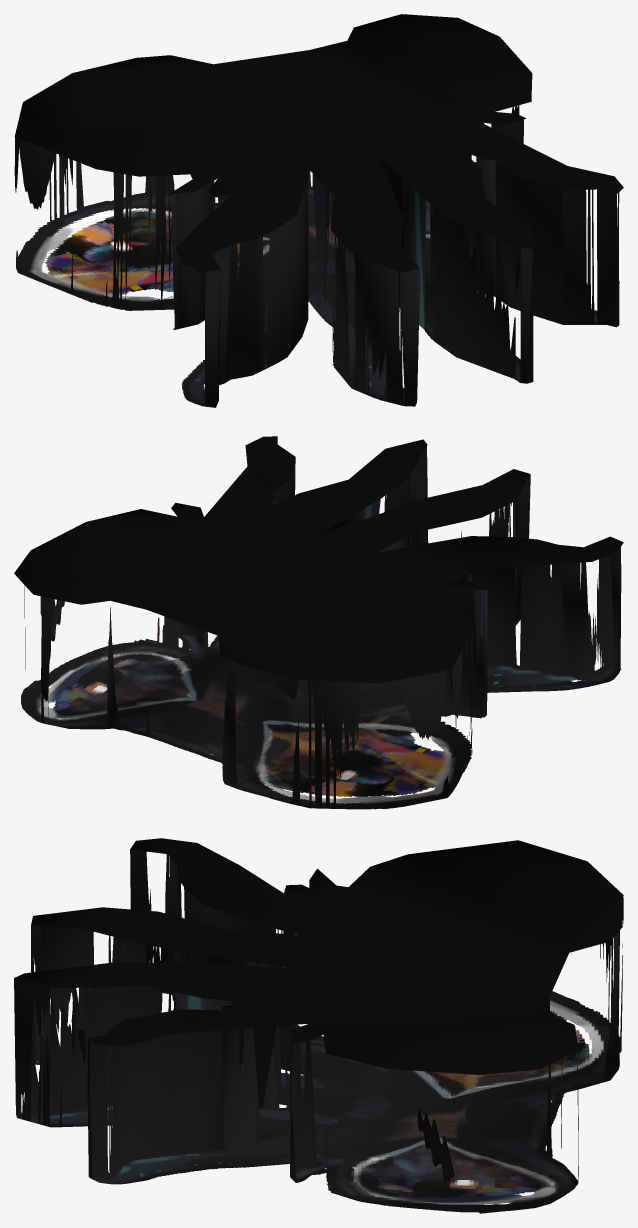
The model's file is M_Poulpe.fbx.
3 renders of one model, top to bottom at view 1: azimuth 30°, elevation 25°; view 2: azimuth 150°, elevation 25°; view 3: azimuth 270°, elevation 25°, orthographic. The views are drawn at different scales.
Parts seen in each view (by area): view 1: Plane.004; view 2: Plane.004; view 3: Plane.004.
Boxes of the visible parts, bbox=[...] form: Plane.004: bbox=[14, 14, 623, 407]; Plane.004: bbox=[14, 436, 623, 809]; Plane.004: bbox=[14, 838, 623, 1213].
Size of the model in its own units: 224 by 62.92 by 243.
